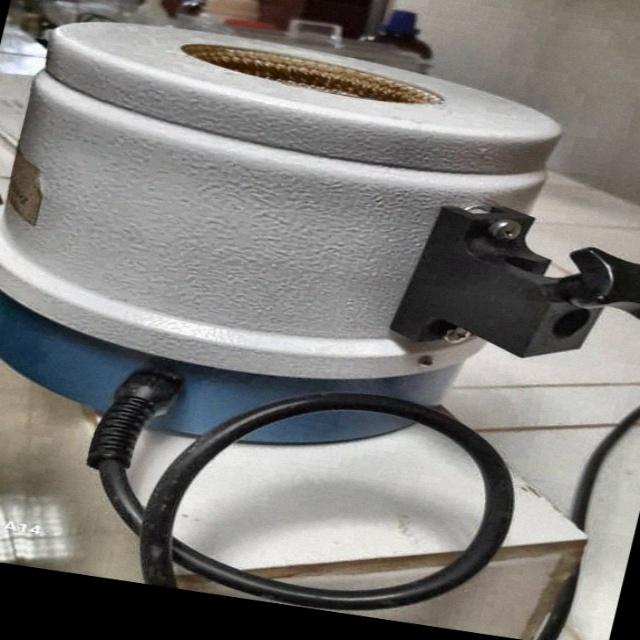Heating Source: (0, 16, 640, 489)
